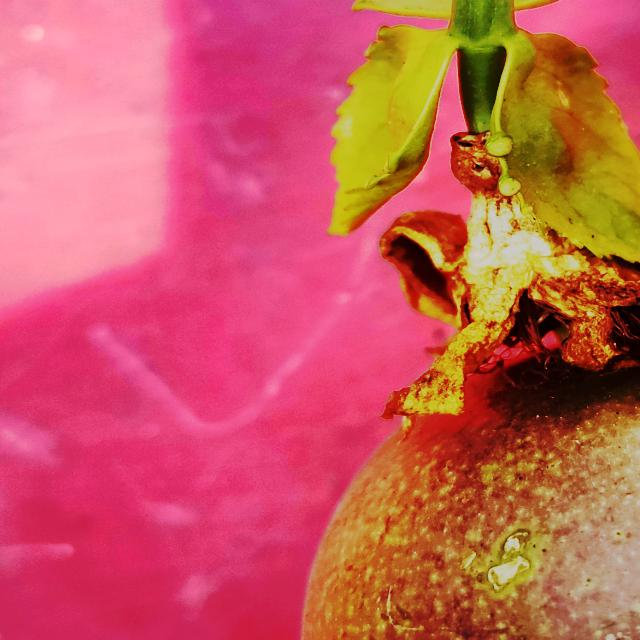Estado-2: (305, 0, 640, 640)
